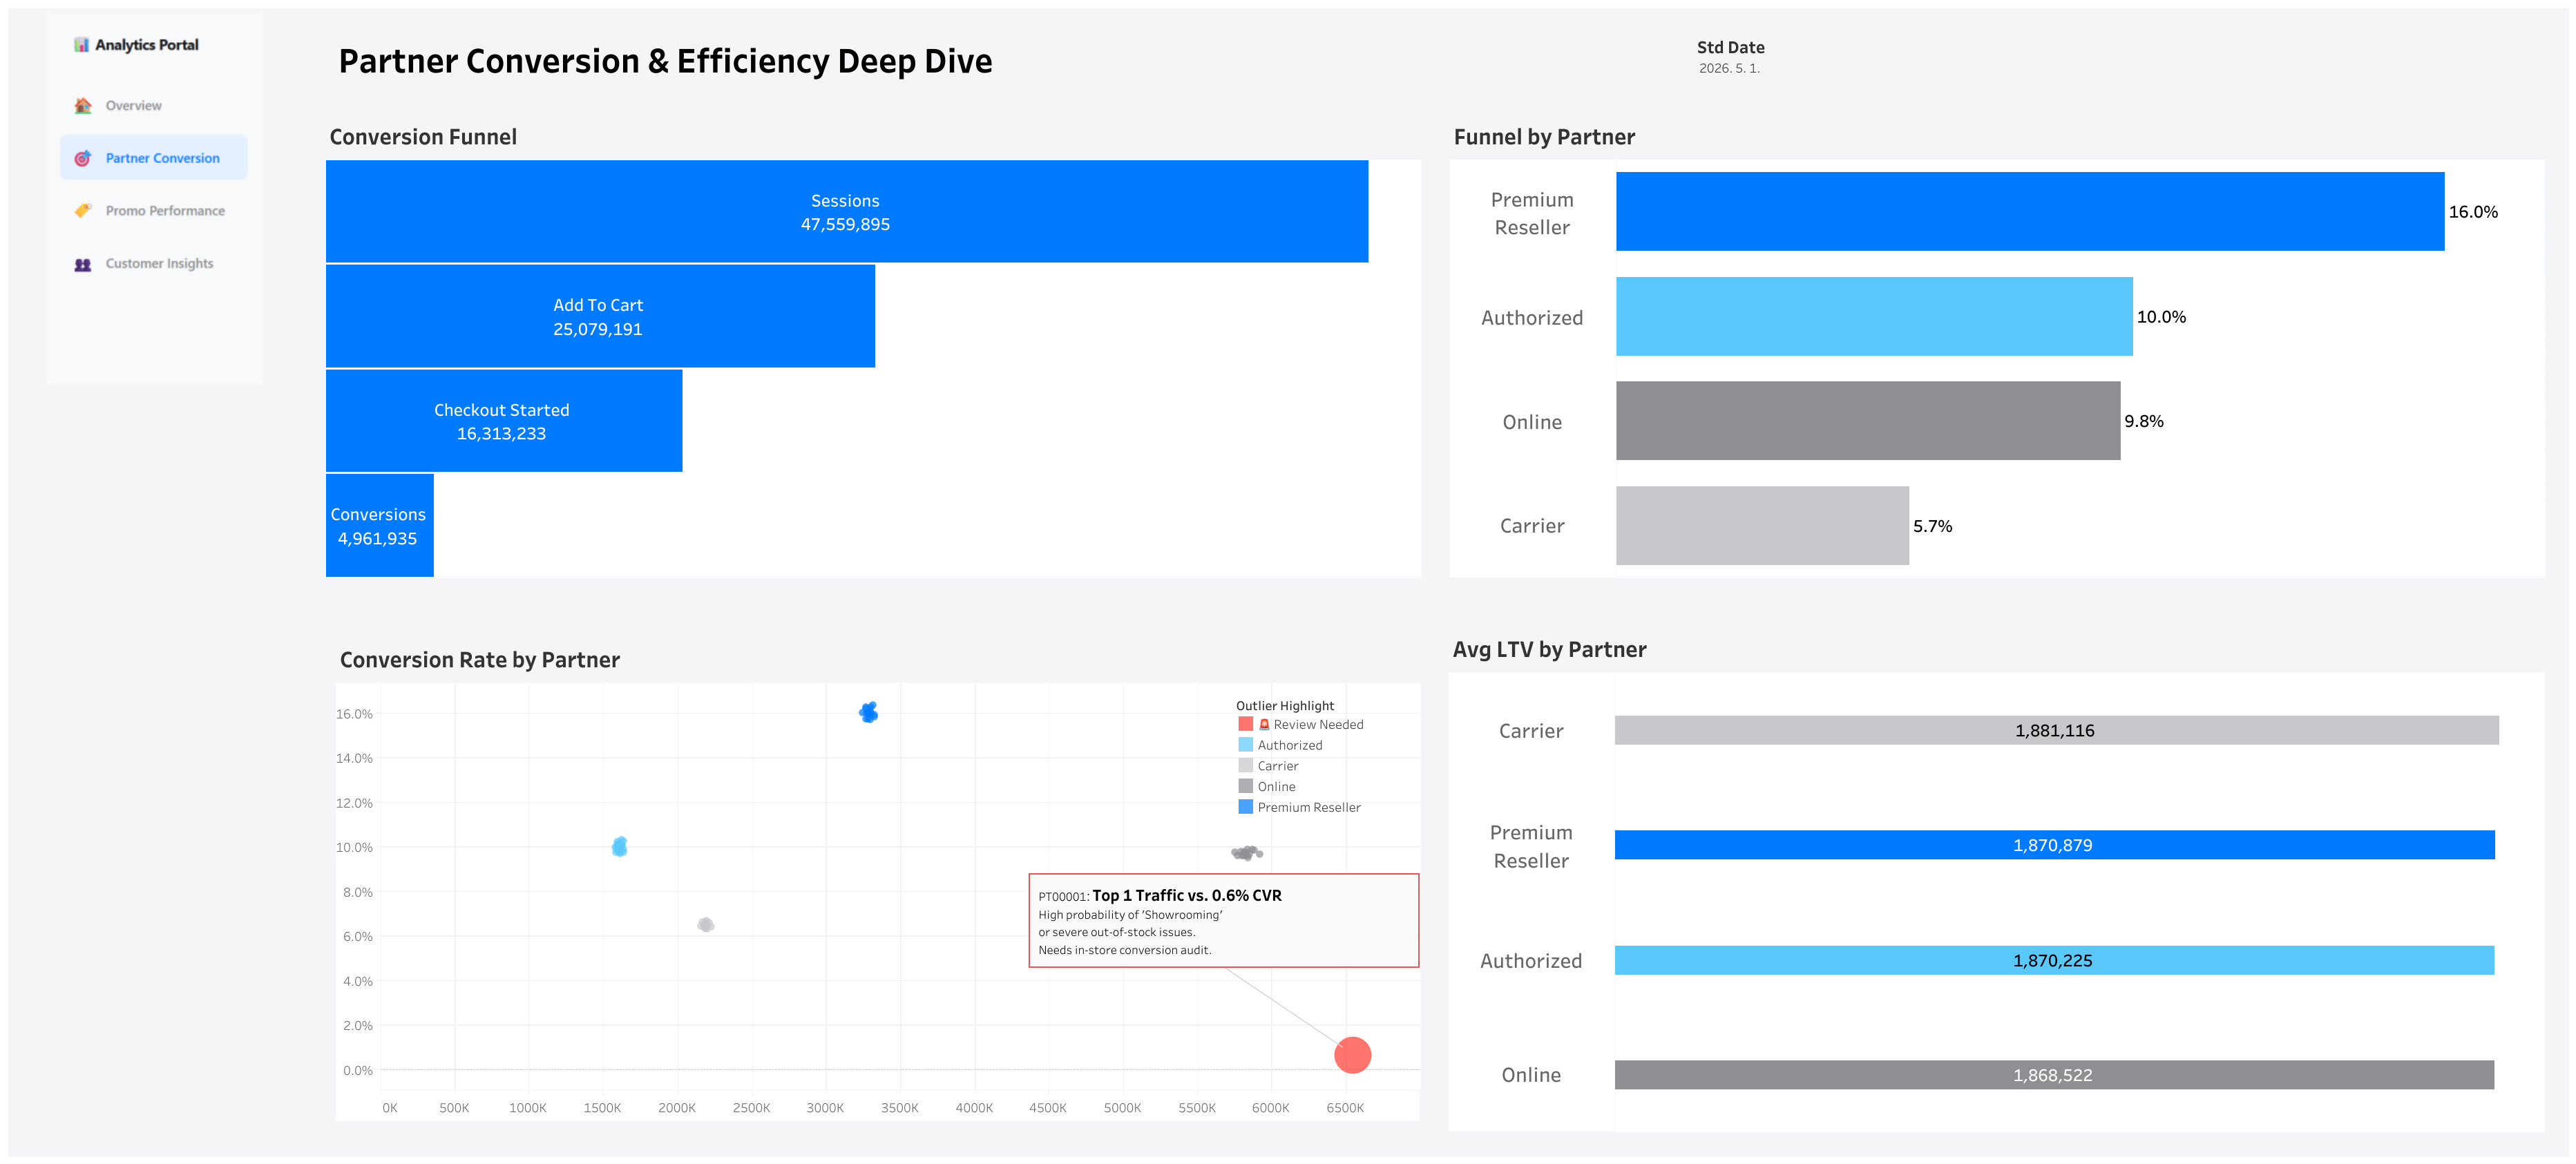

The page's visual inventory and layout, read from the dashboard file:
{"tool":"tableau","page":{"name":"Partner","canvas":[1000,1000],"units":"permille","ordinal":2},"visuals":[{"type":"image","param":"Image/dash2.png","box":[2.4,4.2,113.5,328.7]},{"type":"text","box":[124.8,14.8,511.6,58.9]},{"type":"parameter","param":"[Parameters].[매개 변수 2]","box":[654.1,14.8,79.2,58.9]},{"type":"parameter","param":"[Parameters].[매개 변수 1]","box":[733.3,14.8,79.2,58.9]},{"type":"blank","box":[830.3,14.8,155.5,58.9]},{"type":"blank","box":[985.8,14.8,3,58.9]},{"type":"dashboard-object","box":[12.4,66.8,93.1,39.8]},{"type":"worksheet","title":"Conversion Funnel","mark":"Automatic","box":[121.8,84.3,434.9,422.1]},{"type":"worksheet","title":"Funnel by Partner","mark":"Automatic","rows":["partner_tier"],"cols":["Calculation_0753232033001474"],"box":[556.8,84.3,434.9,422.1]},{"type":"dashboard-object","box":[11.2,111.4,93.1,39.8]},{"type":"dashboard-object","box":[12.1,159.6,93.1,39.8]},{"type":"dashboard-object","box":[11.5,204.7,93.1,39.8]},{"type":"blank","box":[2.4,333,113.5,662.8]},{"type":"worksheet","title":"Conversion Rate by Partner","mark":"Circle","rows":["Calculation_0753232033001474"],"cols":["sessions"],"box":[121.8,527.6,434.9,457.6]},{"type":"worksheet","title":"Avg LTV by Partner","mark":"Bar","rows":["partner_tier"],"cols":["ltv_krw"],"box":[556.7,527.6,435,457.6]},{"type":"legend","title":"Conversion Rate by Partner","param":"[federated.0gik13d1h7tcz112qqhxi0gnzb54].[usr:Calculation_0909088851873792:nk]","box":[479.3,595.4,62.4,112.4]}]}

Visuals, with their boxes on the dashboard's canvas, which has no fixed pixel size, in thousandths of its width and height (x1, y1, x2, y2). These are canvas units, not pixel positions in the 2576x1164 screenshot, which may show the page scaled, cropped or inside an application window:
image: 2:4:116:333
text: 125:15:636:74
parameter: 654:15:733:74
parameter: 733:15:812:74
blank: 830:15:986:74
blank: 986:15:989:74
dashboard-object: 12:67:106:107
"Conversion Funnel" worksheet: 122:84:557:506
"Funnel by Partner" worksheet: 557:84:992:506
dashboard-object: 11:111:104:151
dashboard-object: 12:160:105:199
dashboard-object: 12:205:105:244
blank: 2:333:116:996
"Conversion Rate by Partner" worksheet (Circle marks): 122:528:557:985
"Avg LTV by Partner" worksheet (Bar marks): 557:528:992:985
"Conversion Rate by Partner" legend: 479:595:542:708
